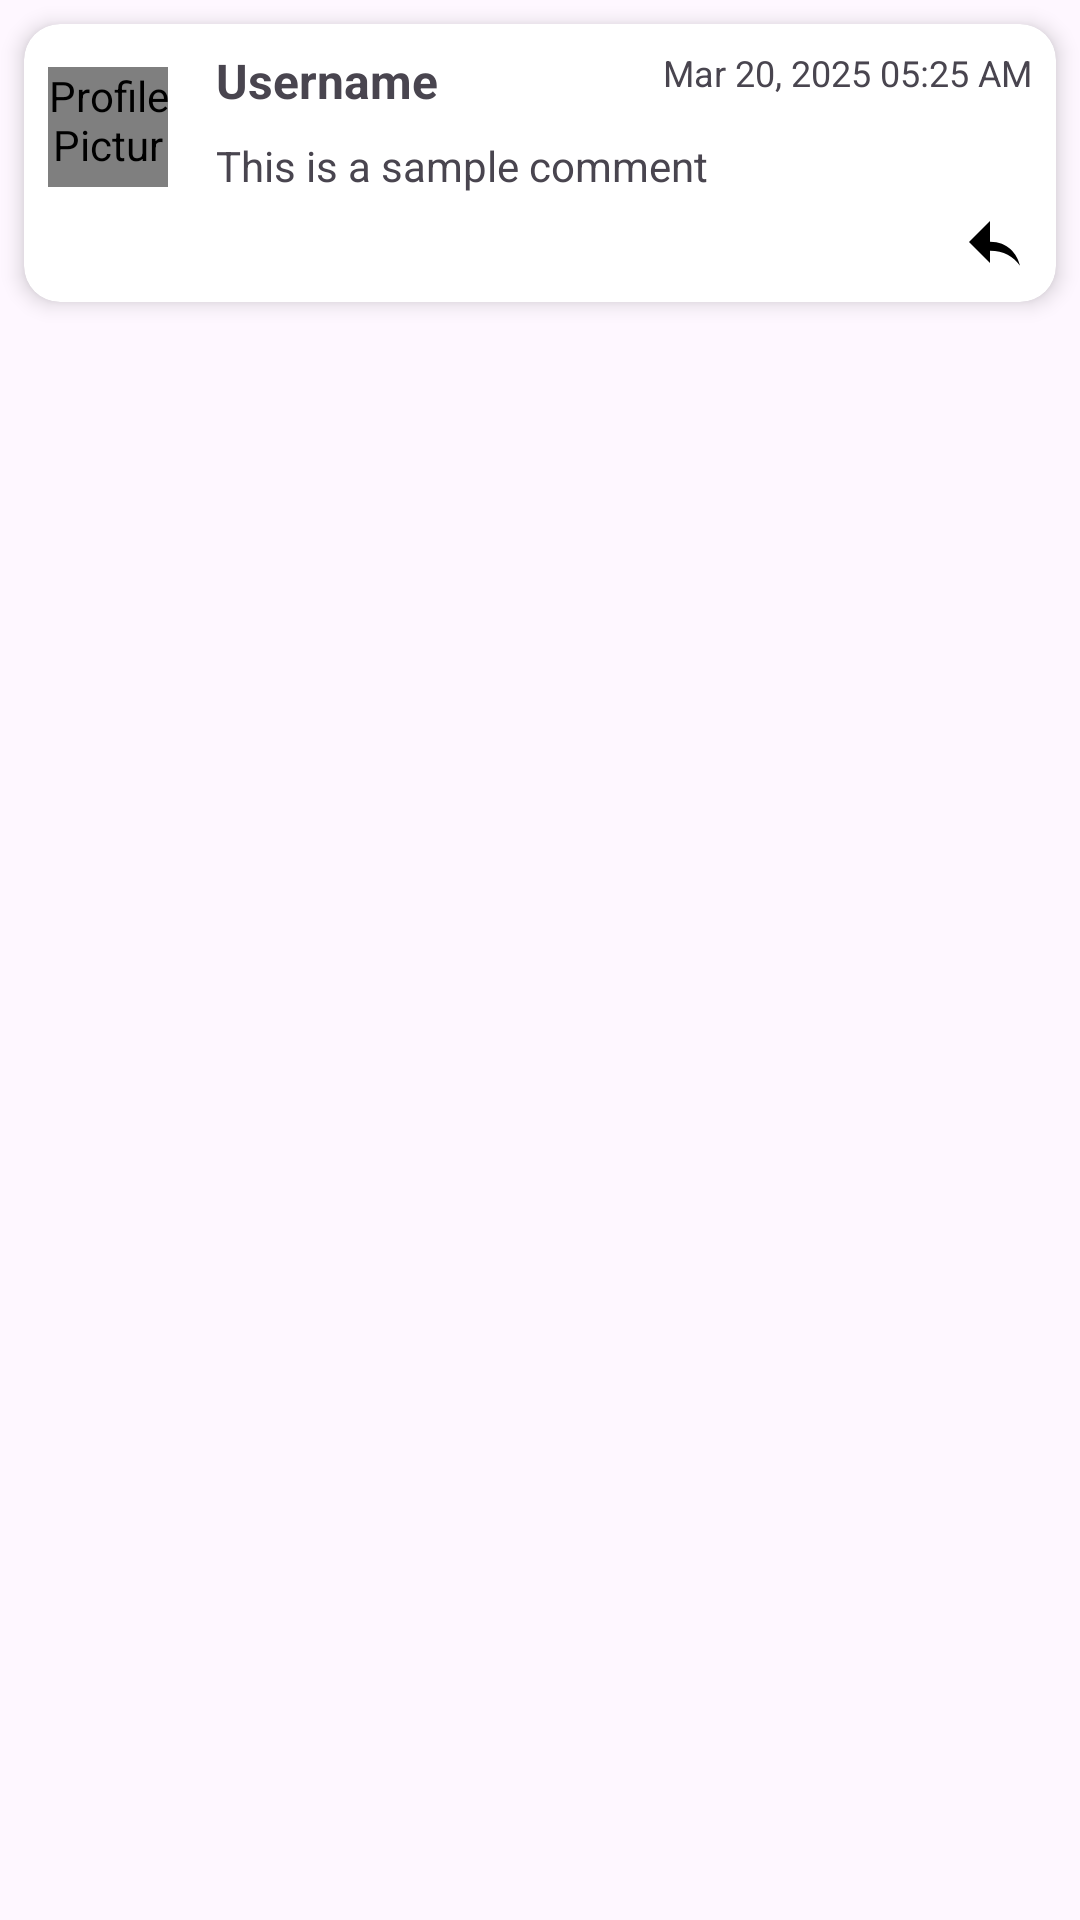

Where icons sit on this 1080w x 1920h app screen, as (x1, y1, x2, y2):
reply: (969, 221, 1020, 266)
